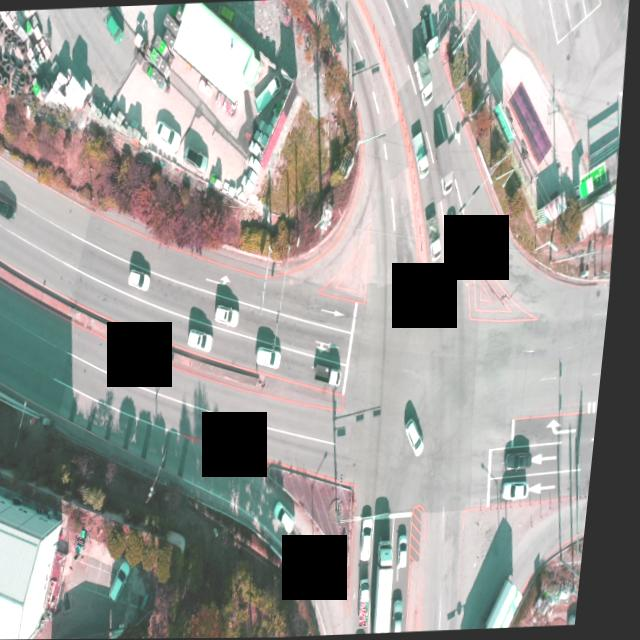car: (159, 119, 189, 150), (120, 558, 142, 600), (450, 218, 470, 262), (413, 417, 435, 456), (283, 500, 308, 533), (187, 142, 214, 171), (372, 517, 388, 561), (0, 190, 23, 219), (221, 303, 248, 327), (264, 345, 291, 368), (195, 329, 222, 352), (512, 479, 540, 500), (514, 452, 543, 472), (134, 268, 159, 291), (409, 534, 422, 567), (407, 600, 418, 632), (582, 612, 590, 625)
medium_truck: (382, 539, 411, 634), (492, 577, 537, 629)
small_truck: (410, 55, 440, 109), (434, 138, 461, 197), (425, 199, 450, 259), (417, 6, 443, 59), (411, 131, 436, 180), (100, 6, 125, 46), (255, 77, 283, 112), (370, 577, 387, 626), (321, 361, 350, 385)
